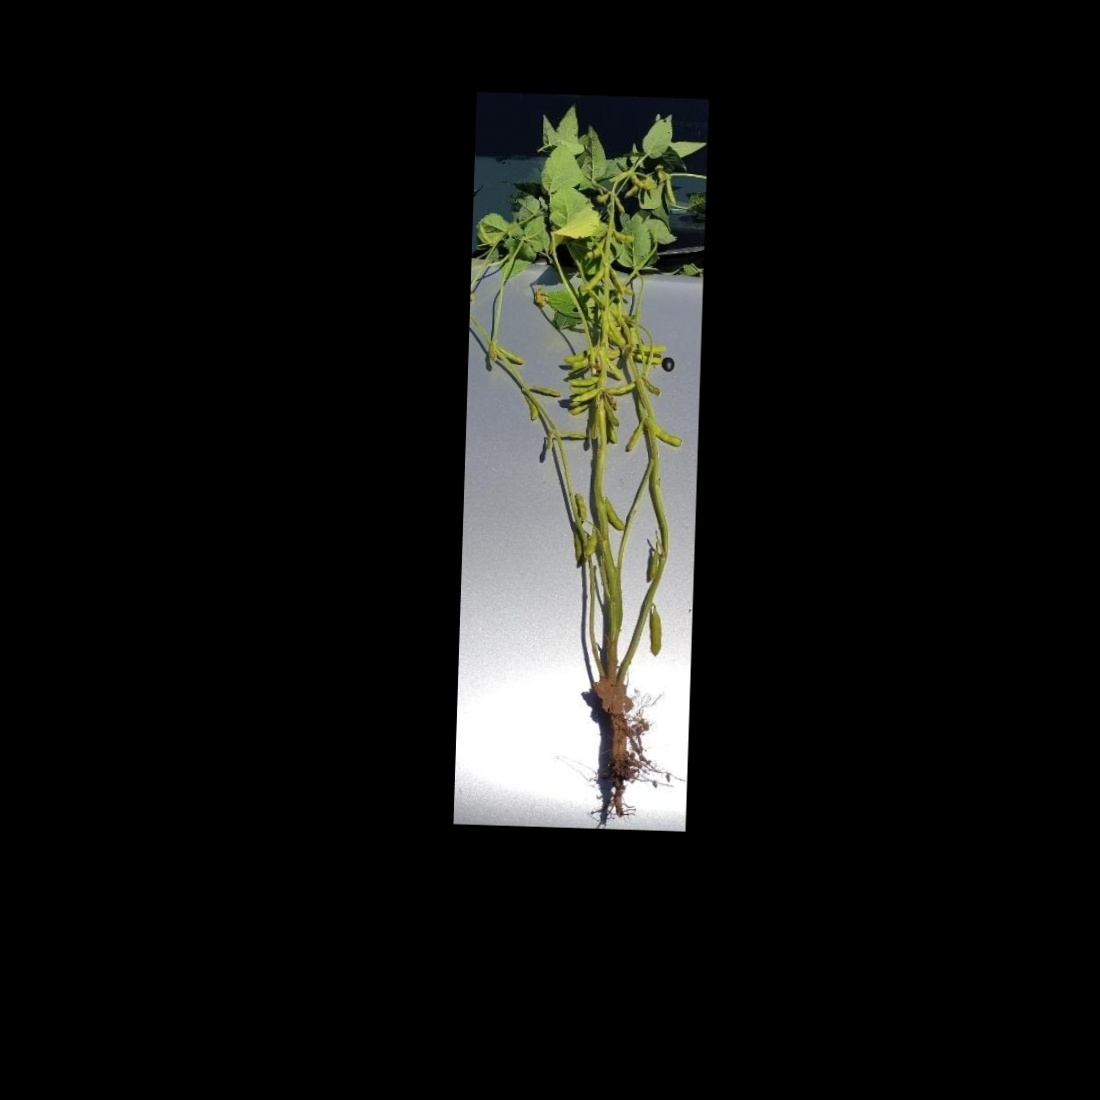pod: (643, 606, 666, 663), (620, 412, 648, 456), (578, 261, 609, 296), (597, 350, 626, 384), (604, 494, 628, 532), (654, 422, 685, 450), (526, 382, 566, 399), (570, 386, 603, 405), (601, 380, 637, 397), (573, 488, 590, 523), (564, 372, 600, 388), (611, 227, 637, 245)
soy: (463, 125, 692, 798)
